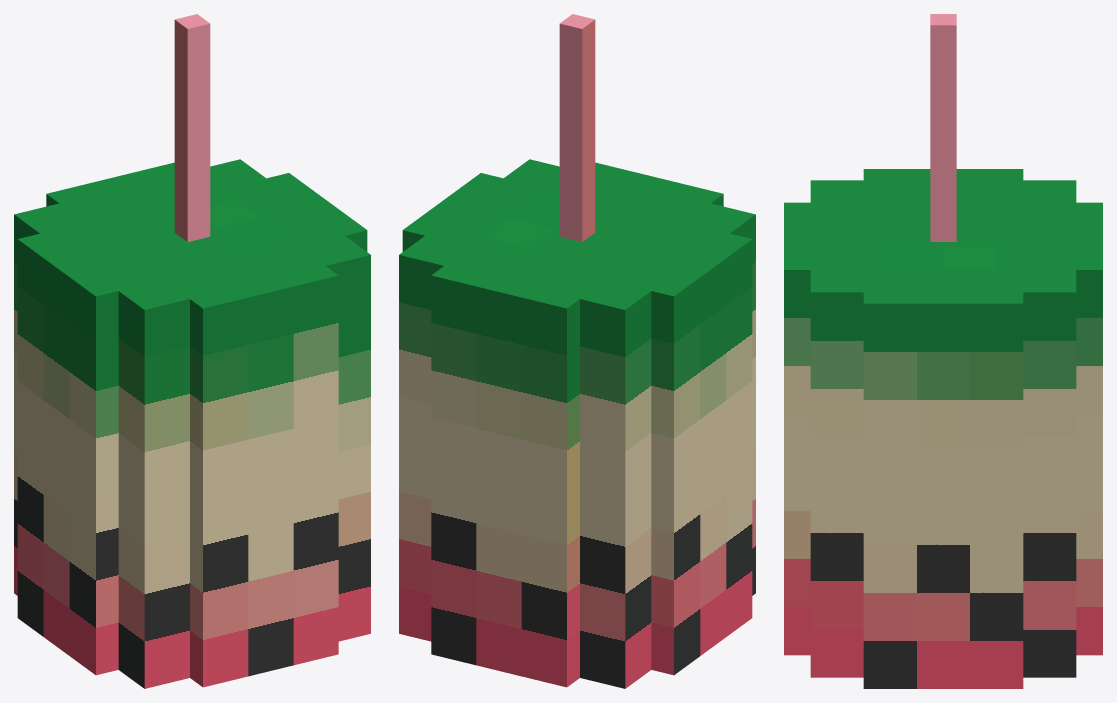
Rendered from Boba.fbx.
3 views of the same model, side by side, from view 1: azimuth 30°, elevation 25°; view 2: azimuth 150°, elevation 25°; view 3: azimuth 270°, elevation 25° (orthographic).
Visible parts, largest first — view 1: cube_14, cube_8, cube_9, cube_7, cube_6, cube_13, cube_20, cube_10, cube_11, cube_16, cube_15, cube_22 (+8 smaller); view 2: cube_15, cube, cube_11, cube_1, cube_2, cube_12, cube_20, cube_10, cube_9, cube_16, cube_14, cube_22 (+8 smaller); view 3: cube_3, cube_5, cube_12, cube_13, cube_4, cube_20, cube_2, cube_6, cube_16, cube_21, cube_22, cube_1 (+8 smaller).
Boxes of the visible parts, x1,y1,x2,y2 form: cube_14: [118, 280, 189, 688]; cube_8: [177, 278, 248, 687]; cube_9: [69, 266, 140, 675]; cube_7: [222, 267, 293, 676]; cube_6: [268, 256, 338, 665]; cube_13: [300, 236, 370, 641]; cube_20: [73, 182, 311, 289]; cube_10: [43, 247, 114, 655]; cube_11: [17, 228, 88, 636]; cube_16: [174, 14, 210, 241]; cube_15: [14, 203, 84, 595]; cube_22: [63, 222, 163, 285]; cube_15: [580, 280, 651, 688]; cube: [521, 278, 592, 687]; cube_11: [629, 266, 700, 675]; cube_1: [476, 267, 547, 676]; cube_2: [431, 256, 501, 665]; cube_12: [399, 236, 469, 641]; cube_20: [458, 182, 696, 289]; cube_10: [655, 247, 726, 655]; cube_9: [681, 228, 752, 636]; cube_16: [559, 14, 595, 241]; cube_14: [685, 203, 755, 595]; cube_22: [606, 222, 706, 285]; cube_3: [970, 281, 1023, 688]; cube_5: [863, 281, 916, 688]; cube_12: [1023, 270, 1076, 677]; cube_13: [810, 270, 863, 677]; cube_4: [917, 281, 969, 688]; cube_20: [837, 202, 1049, 269]; cube_2: [1049, 247, 1102, 655]; cube_6: [784, 247, 837, 655]; cube_16: [930, 14, 956, 241]; cube_21: [863, 270, 1023, 281]; cube_22: [863, 191, 1023, 202]; cube_1: [1049, 225, 1102, 247].
Bounding box in the file's own units: 37.5 × 78.12 × 37.5.
Materials: 4 (4 with a texture image).
